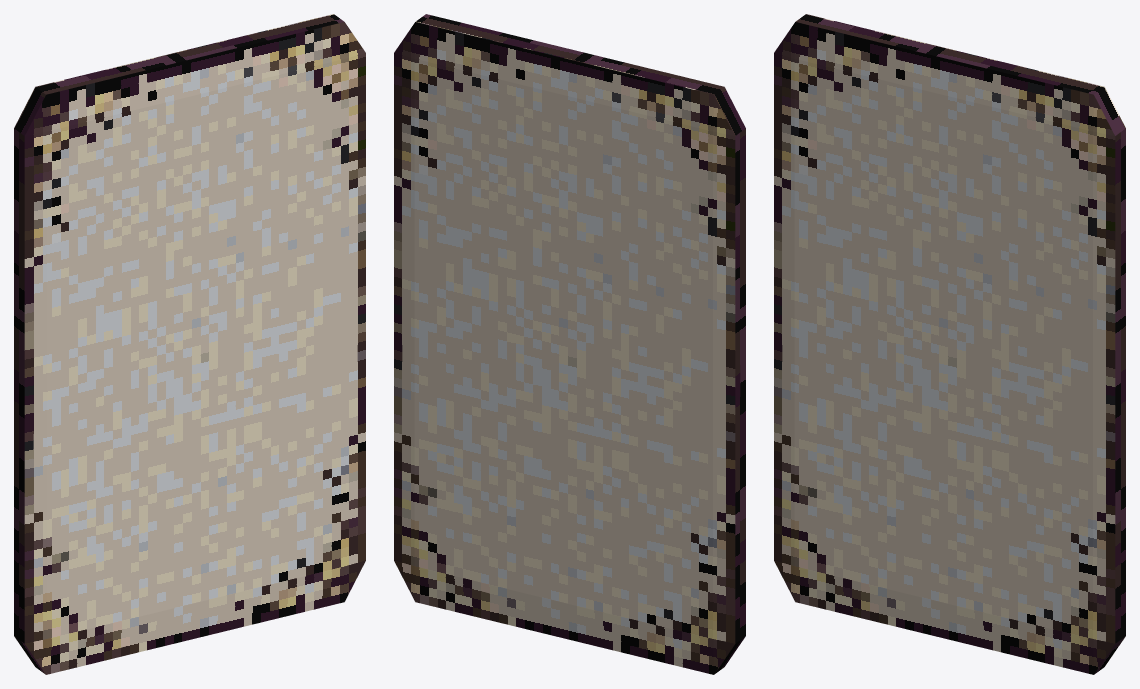
File: UpgradeCards.fbx
3 renders of one model, left to right at view 1: azimuth 30°, elevation 25°; view 2: azimuth 150°, elevation 25°; view 3: azimuth 330°, elevation 25°, orthographic.
Parts seen in each view (by area): view 1: beveled_cuboid; view 2: beveled_cuboid; view 3: beveled_cuboid.
Part boxes in pixels (left/top/right/bottom): beveled_cuboid: left=14, top=14, right=365, bottom=674; beveled_cuboid: left=394, top=14, right=745, bottom=674; beveled_cuboid: left=774, top=14, right=1125, bottom=674.
Bounding box in the file's own units: 100 × 162 × 6.25.
1 material, 1 textured.
